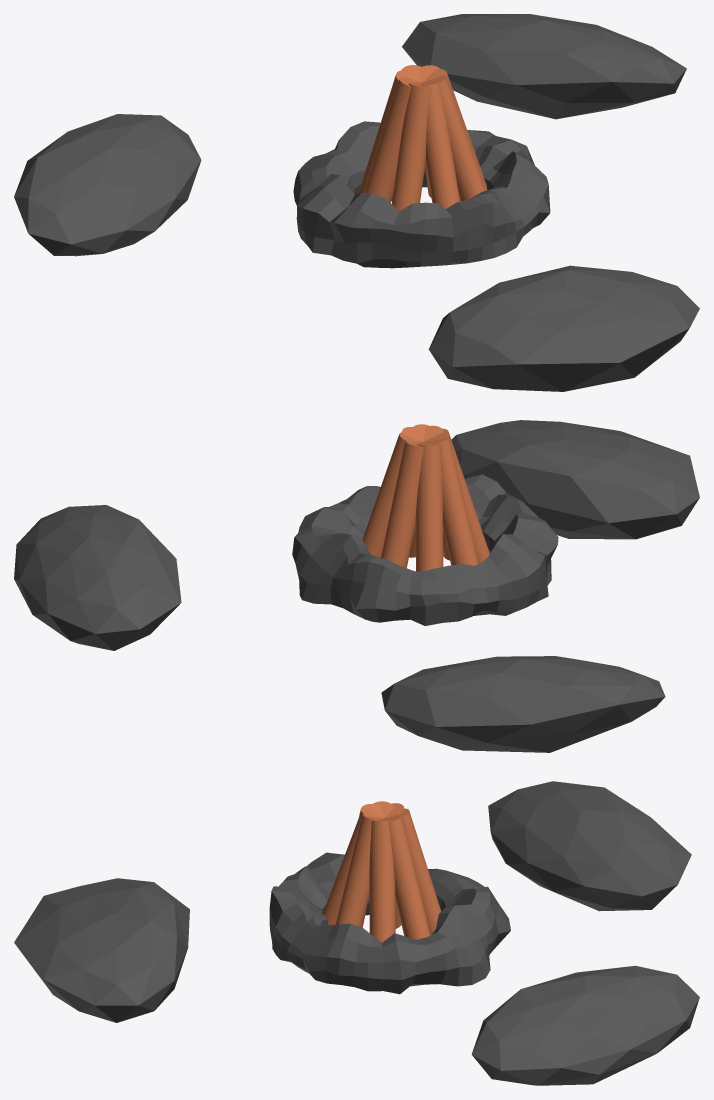
The model's file is Campfire.fbx.
The picture shows the model from 3 angles, top to bottom: view 1: azimuth 30°, elevation 25°; view 2: azimuth 150°, elevation 25°; view 3: azimuth 270°, elevation 25°; orthographic projection. The views are drawn at different scales.
Visible parts, largest first — view 1: Campfire, Wood; view 2: Campfire, Wood; view 3: Campfire, Wood.
Boxes of the visible parts, x1,y1,x2,y2 form: Campfire: [14, 14, 699, 391]; Wood: [358, 65, 487, 211]; Campfire: [14, 420, 699, 752]; Wood: [363, 424, 489, 571]; Campfire: [14, 781, 699, 1085]; Wood: [322, 801, 441, 942].
Bounding box in the file's own units: 131 × 38.54 × 129.
